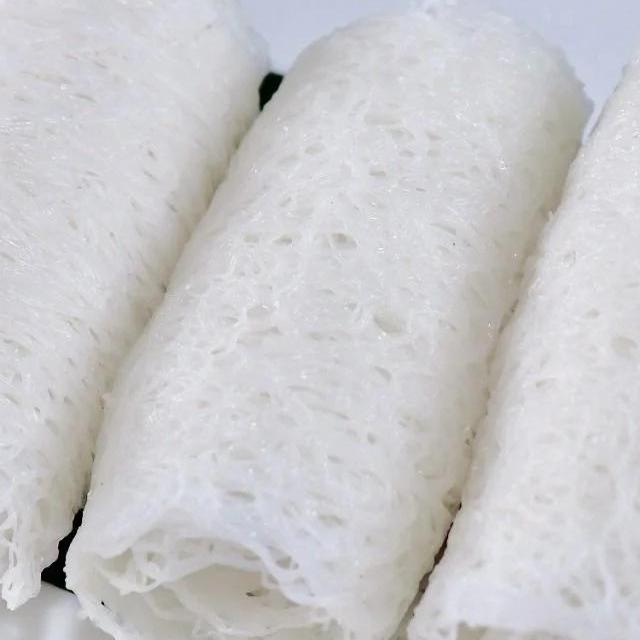banh hoi: (45, 0, 583, 640), (0, 0, 297, 633), (368, 0, 640, 640)
